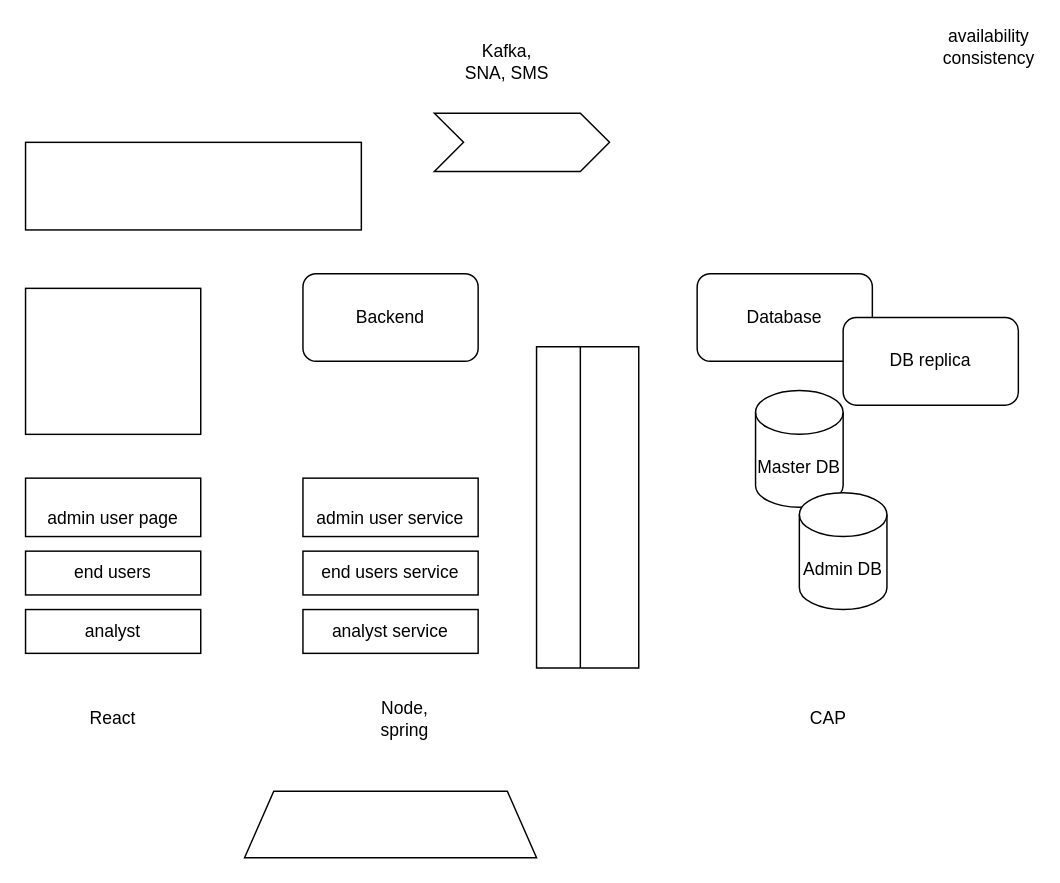
The diagram is 1060 pixels wide and 883 high, and some of its shapes have lost their labels. Each missing label, with the centre of its shape:
"Cache" belongs at point 587,506.
"Event System between services" belongs at point 521,142.
"FE What user is looking" belongs at point 112,360.
"Load Balancer" belongs at point 192,185.
"SAGA Pattern adaptors and ports for each service" belongs at point 390,824.
